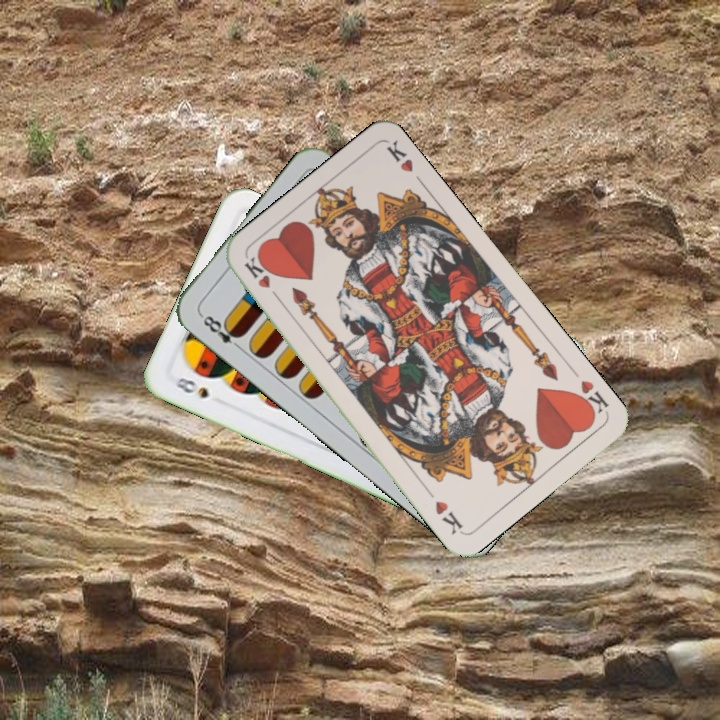E8: (196, 310, 245, 353)
HK: (239, 253, 285, 305), (569, 376, 611, 421)
S8: (171, 373, 212, 401)
